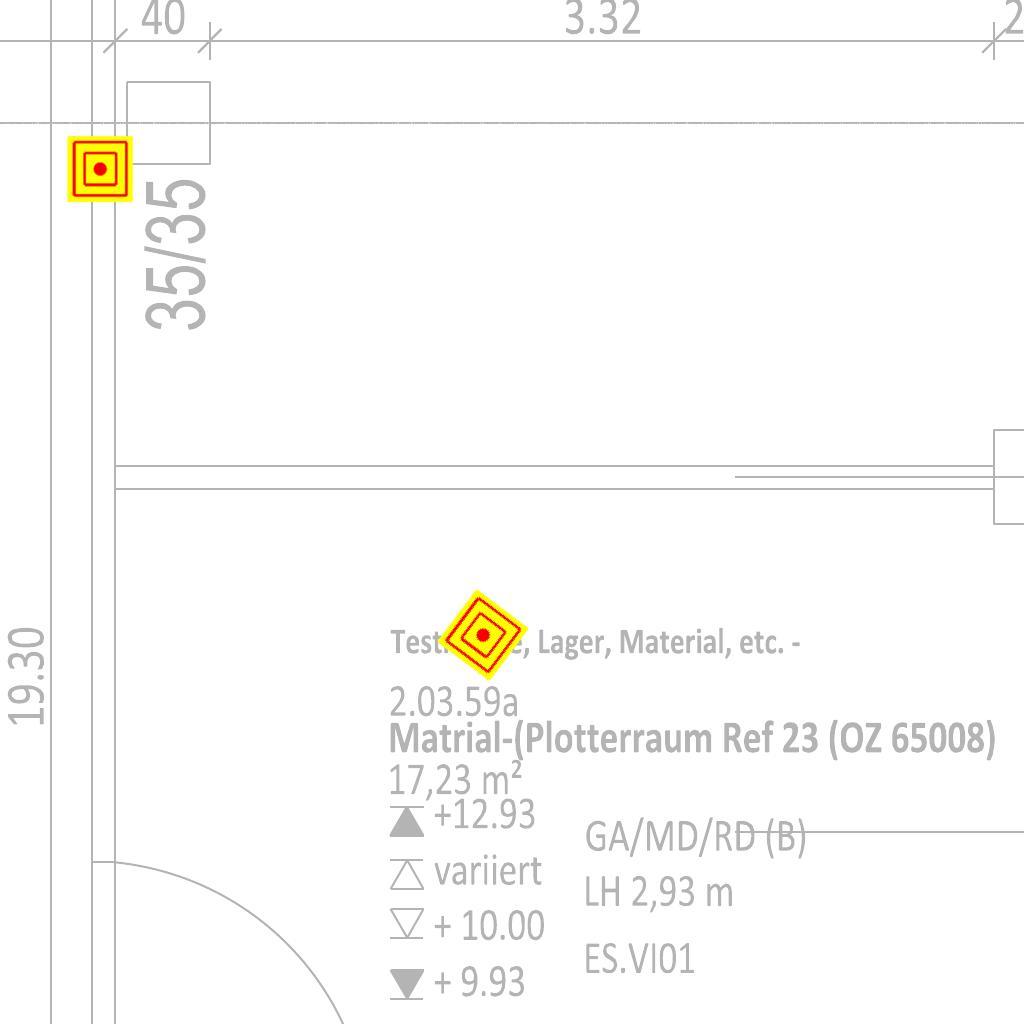NAM-Nichtautomatischer_Melder: (436, 588, 530, 682), (67, 136, 133, 202)
